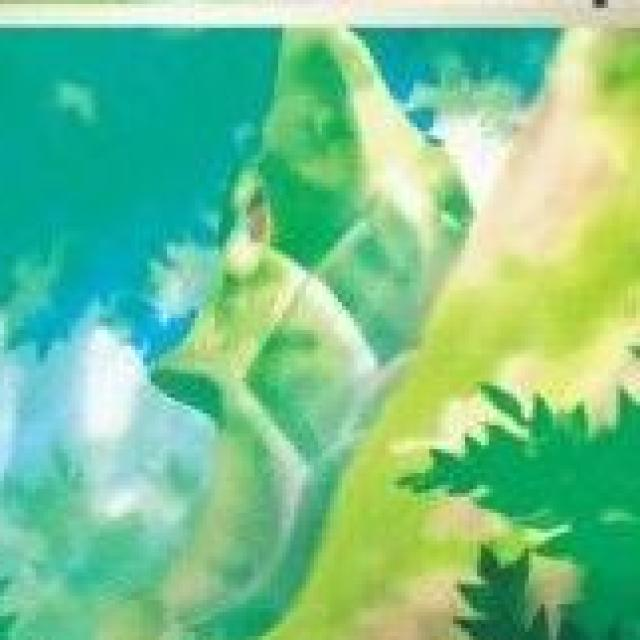Metapod: (138, 28, 472, 634)
